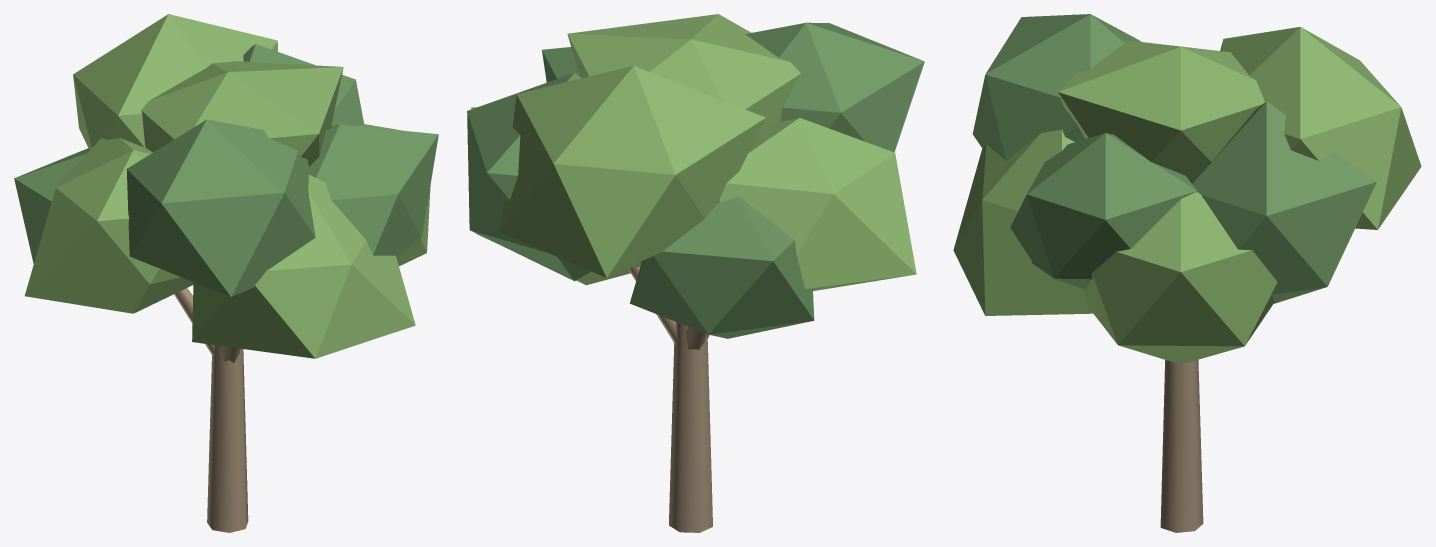
The model's file is oak.glb.
3 renders of one model, left to right at view 1: azimuth 30°, elevation 25°; view 2: azimuth 150°, elevation 25°; view 3: azimuth 270°, elevation 25°, orthographic. The views are drawn at different scales.
Parts seen in each view (by area): view 1: oak; view 2: oak; view 3: oak.
Part boxes in pixels (x1=…): oak: x1=14, y1=14, x2=438, y2=532; oak: x1=467, y1=14, x2=924, y2=532; oak: x1=953, y1=14, x2=1421, y2=532.
Size of the model in its own units: 10.08 by 10.98 by 9.4.
